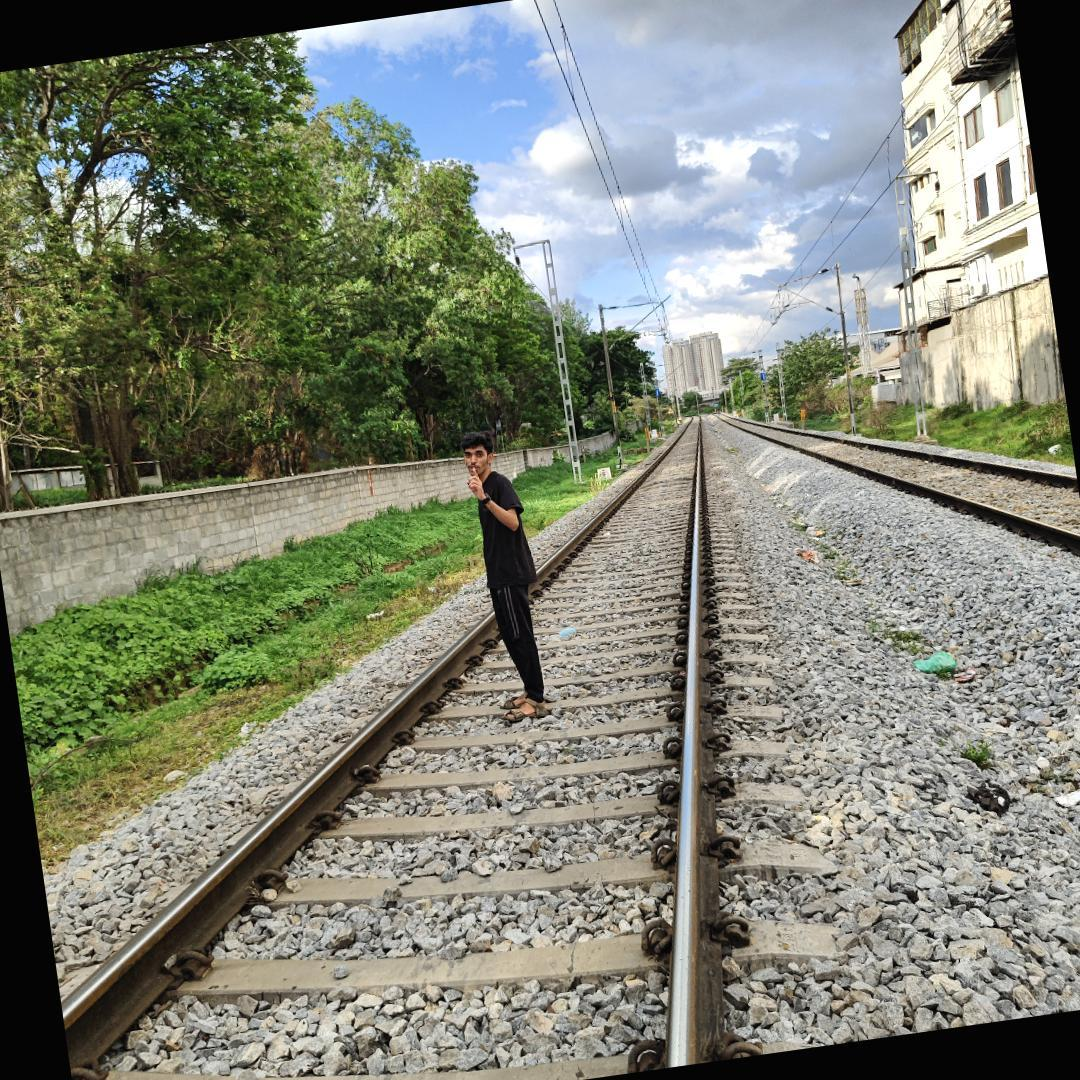standing: (459, 422, 557, 725)
